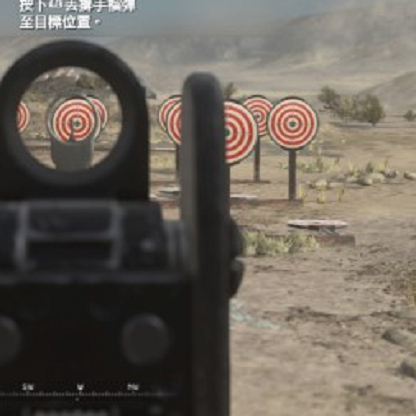target: (265, 94, 318, 150), (50, 96, 99, 139)
